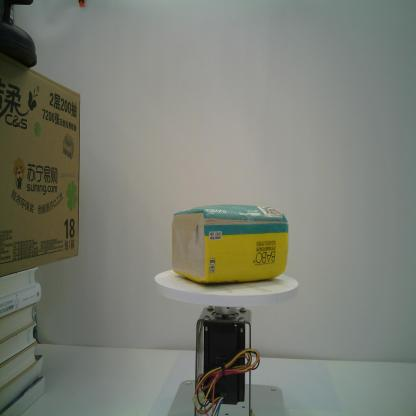Tissue: (171, 203, 289, 285)
